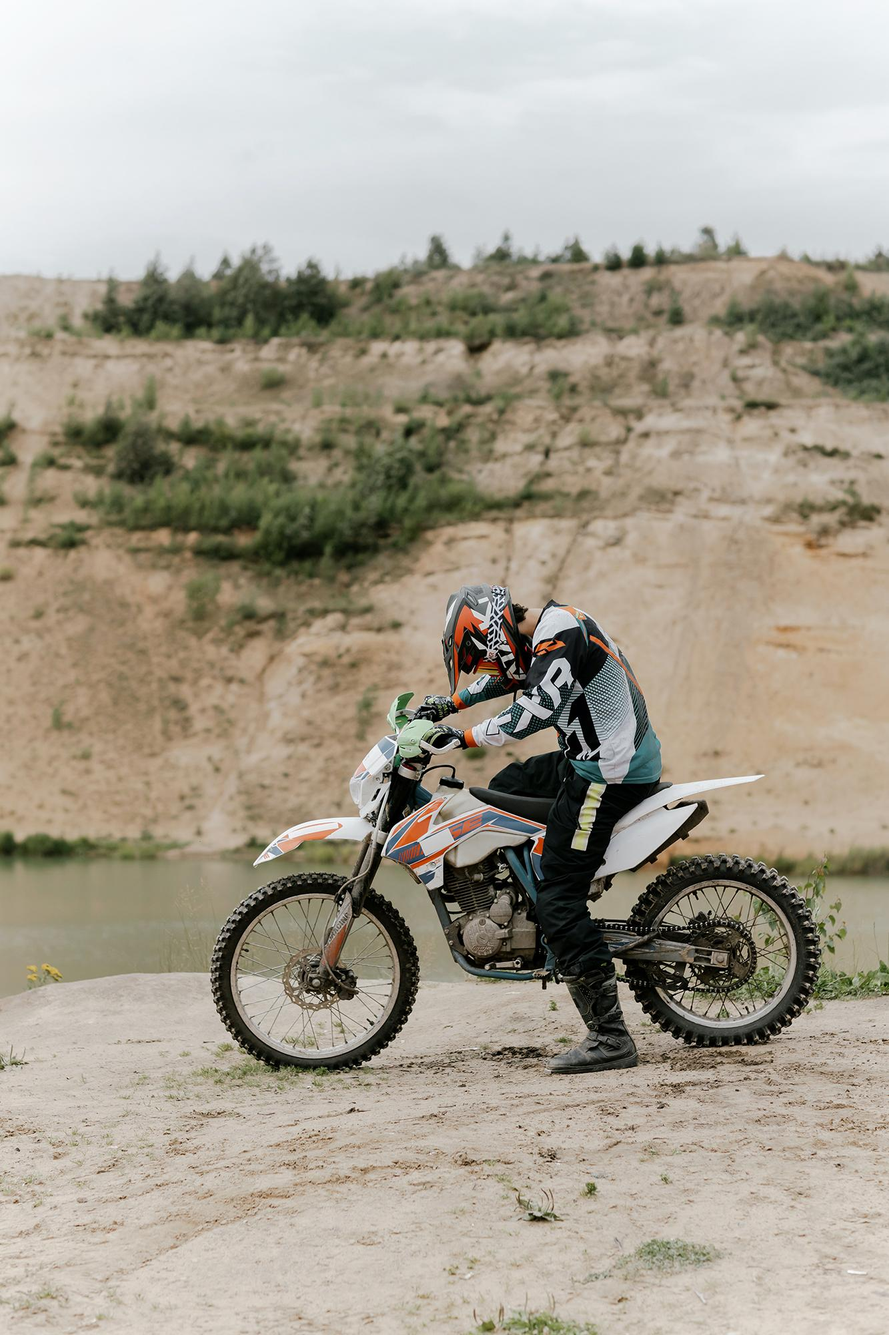helmet: (441, 582, 535, 698)
